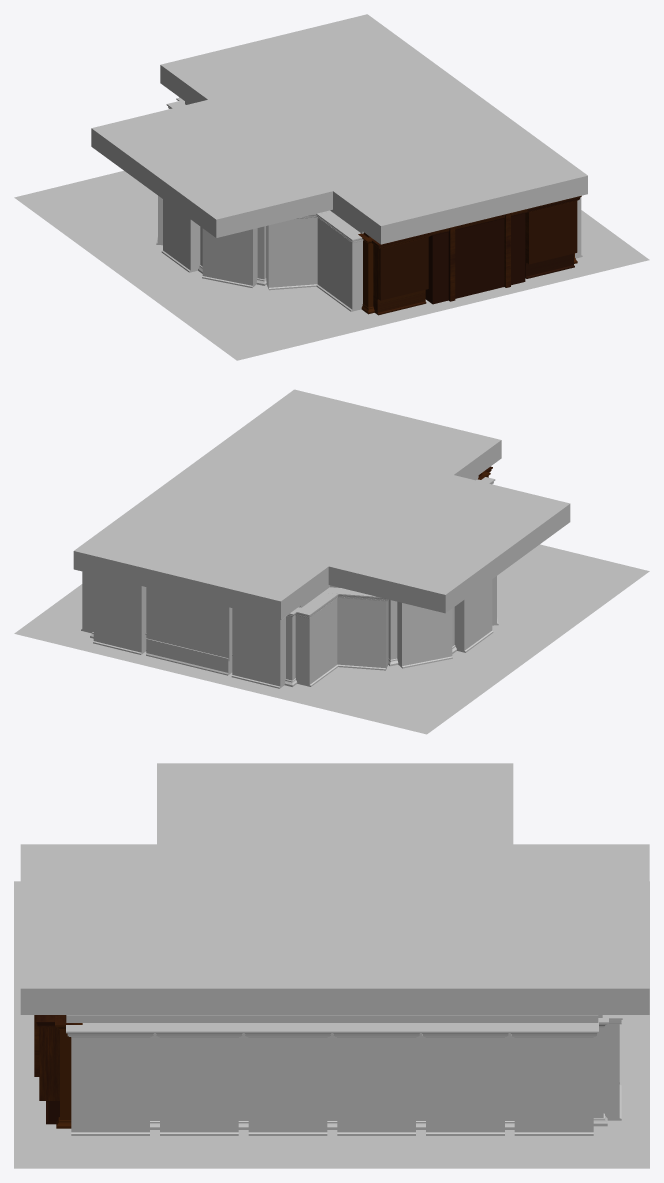
The model's file is RoomEscape_FullRoom.fbx.
3 views of the same model, one above another, from view 1: azimuth 30°, elevation 25°; view 2: azimuth 150°, elevation 25°; view 3: azimuth 270°, elevation 25° (orthographic). The views are drawn at different scales.
Visible parts, largest first — view 1: Object155, Plane031, Object192, Object177; view 2: Object155, Plane031, Object179, Object177, Object178; view 3: Object155, Plane031, Object183, Object178, Object181, Object184, Object182, Object185, Object192, Object179.
Boxes of the visible parts, bbox=[...] form: Object155: bbox=[91, 14, 587, 244]; Plane031: bbox=[14, 171, 649, 360]; Object192: bbox=[358, 195, 581, 315]; Object177: bbox=[156, 101, 363, 311]; Object155: bbox=[73, 389, 570, 619]; Plane031: bbox=[14, 544, 649, 734]; Object179: bbox=[90, 574, 301, 688]; Object177: bbox=[295, 475, 498, 686]; Object178: bbox=[81, 571, 92, 633]; Object155: bbox=[20, 763, 649, 1014]; Plane031: bbox=[14, 881, 649, 1168]; Object183: bbox=[234, 1015, 332, 1135]; Object178: bbox=[500, 1015, 598, 1135]; Object181: bbox=[411, 1015, 510, 1135]; Object184: bbox=[145, 1015, 244, 1135]; Object182: bbox=[322, 1015, 421, 1135]; Object185: bbox=[66, 1015, 155, 1135]; Object192: bbox=[34, 1015, 82, 1128]; Object179: bbox=[593, 1015, 622, 1126].
Bounding box in the file's own units: 583 × 131 × 545.
